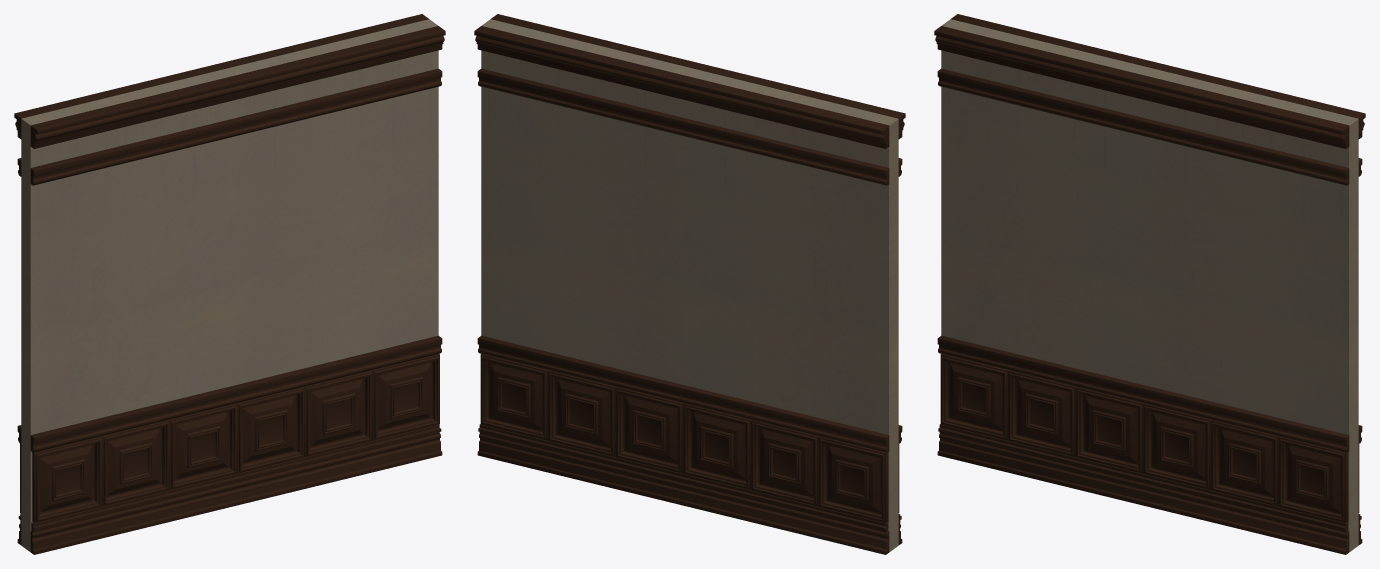
File: SK5 WALL 2 INT.fbx
The picture shows the model from 3 angles, left to right: view 1: azimuth 30°, elevation 25°; view 2: azimuth 150°, elevation 25°; view 3: azimuth 330°, elevation 25°; orthographic projection.
Parts seen in each view (by area): view 1: SK5 WALL 2 INT; view 2: SK5 WALL 2 INT; view 3: SK5 WALL 2 INT.
Part boxes in pixels (x1=…): SK5 WALL 2 INT: x1=14, y1=14, x2=445, y2=554; SK5 WALL 2 INT: x1=474, y1=14, x2=905, y2=554; SK5 WALL 2 INT: x1=934, y1=14, x2=1365, y2=554.
Size of the model in its own units: 400 by 400 by 39.93.
